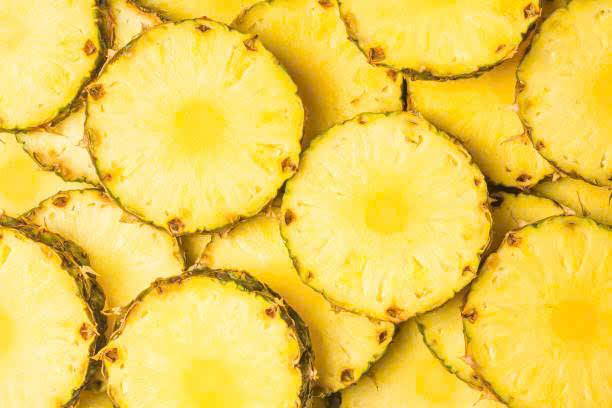pineapple: (275, 108, 494, 326), (79, 17, 302, 229), (453, 209, 612, 408), (103, 265, 315, 408), (2, 217, 106, 405), (332, 0, 546, 78), (528, 0, 612, 192), (0, 0, 109, 145)
